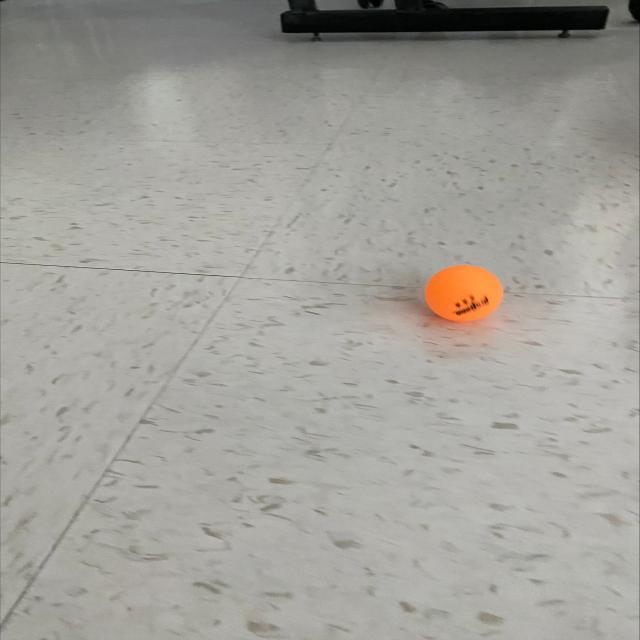ping-pong-ball: (421, 263, 505, 324)
